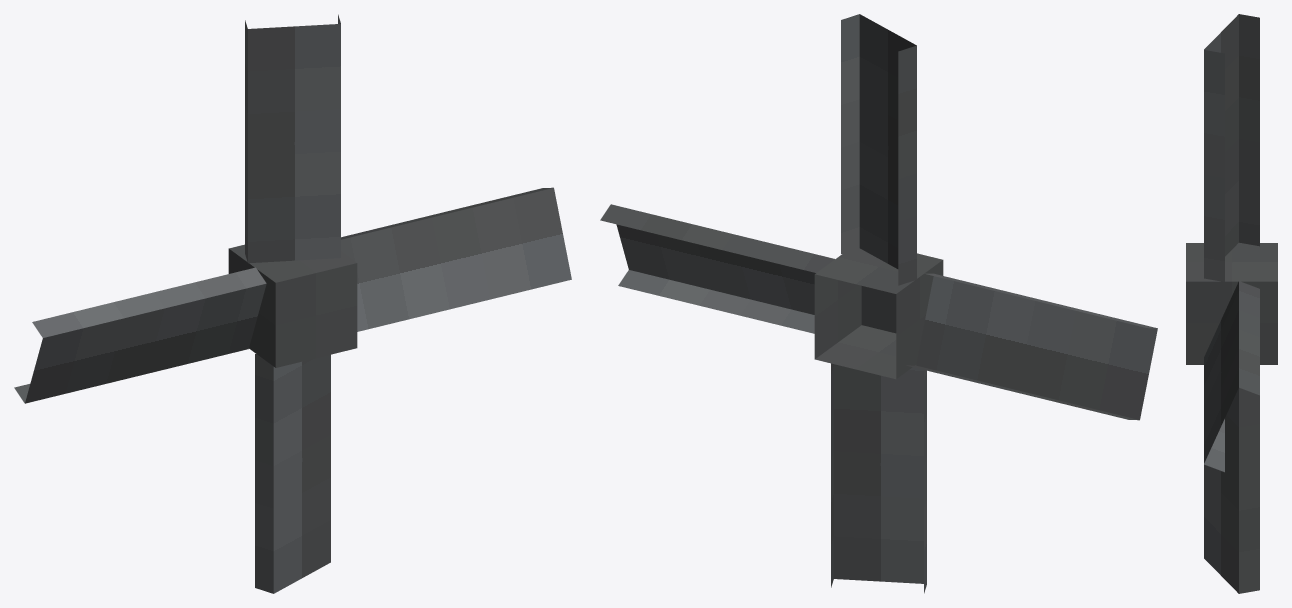
Rendered from grinder_fan.obj.
3 views of the same model, side by side, from view 1: azimuth 30°, elevation 25°; view 2: azimuth 150°, elevation 25°; view 3: azimuth 270°, elevation 25° (orthographic). The views are drawn at different scales.
Visible parts, largest first — view 1: fan_blade2, fan_blade3, fan_blade1, fan_blade4, fan_hub; view 2: fan_blade1, fan_blade4, fan_blade2, fan_blade3, fan_hub; view 3: fan_blade2, fan_blade4, fan_hub, fan_blade3.
Part boxes in pixels (<box>): fan_blade2: <box>245,14,340,263</box>; fan_blade3: <box>341,187,571,331</box>; fan_blade1: <box>14,267,266,403</box>; fan_blade4: <box>255,354,330,593</box>; fan_hub: <box>228,244,357,367</box>; fan_blade1: <box>906,273,1157,420</box>; fan_blade4: <box>831,363,926,593</box>; fan_blade2: <box>841,14,916,285</box>; fan_blade3: <box>600,204,834,333</box>; fan_hub: <box>814,248,943,379</box>; fan_blade2: <box>1204,14,1259,281</box>; fan_blade4: <box>1204,387,1259,593</box>; fan_hub: <box>1186,243,1277,364</box>; fan_blade3: <box>1204,281,1259,472</box>.
Size of the model in its own units: 13 by 13 by 2.
